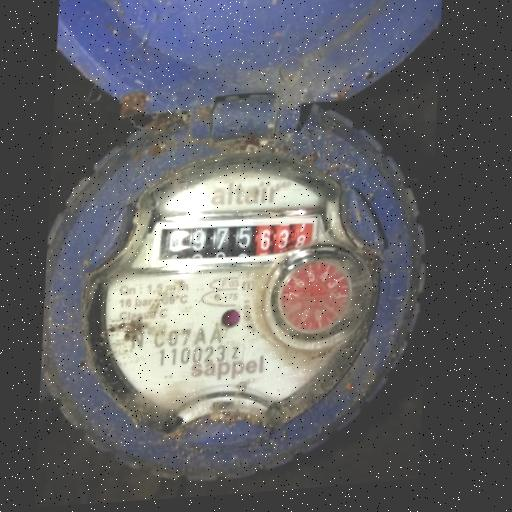0: (163, 227, 187, 260)
3: (272, 223, 290, 254)
5: (233, 225, 255, 258)
6: (257, 224, 274, 255)
7: (212, 225, 232, 258)
8: (291, 223, 311, 250)
9: (188, 225, 210, 259)
border_water_meter_number: (129, 205, 335, 274)
